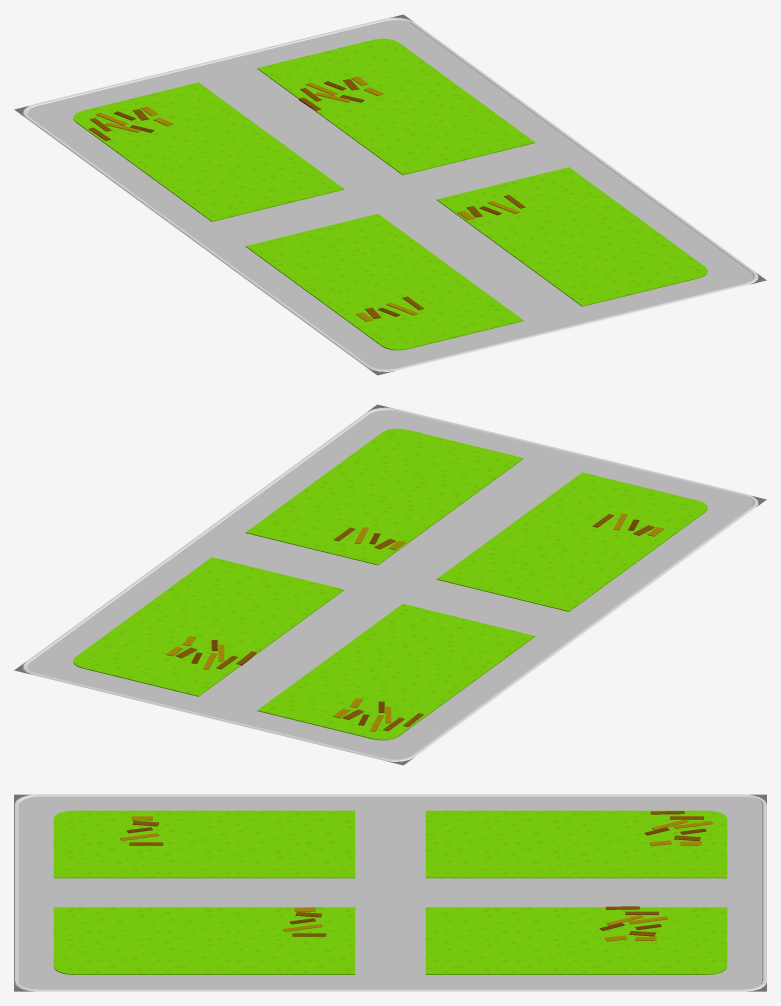
Rendered from place_2.fbx.
3 views of the same model, one above another, from view 1: azimuth 30°, elevation 25°; view 2: azimuth 150°, elevation 25°; view 3: azimuth 270°, elevation 25° (orthographic). The views are drawn at different scales.
Parts seen in each view (by area): view 1: place_2; view 2: place_2; view 3: place_2.
Part boxes in pixels (<box>): place_2: <box>14,14,766,375</box>; place_2: <box>14,404,766,765</box>; place_2: <box>14,794,766,991</box>.
Bounding box in the file's own units: 4140 × 20.27 × 6688.
